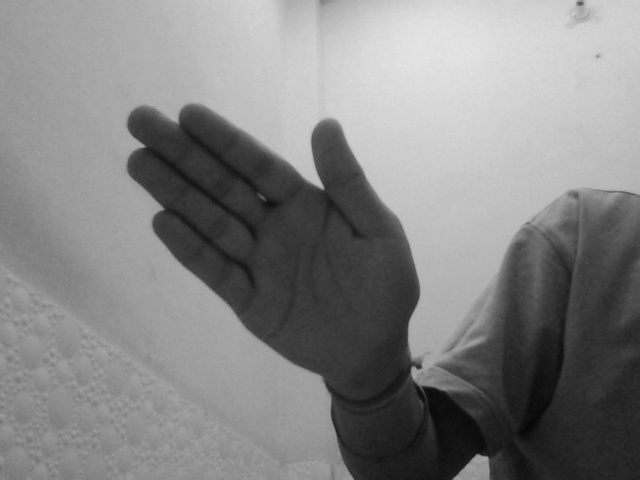Hello: (118, 98, 424, 401)
